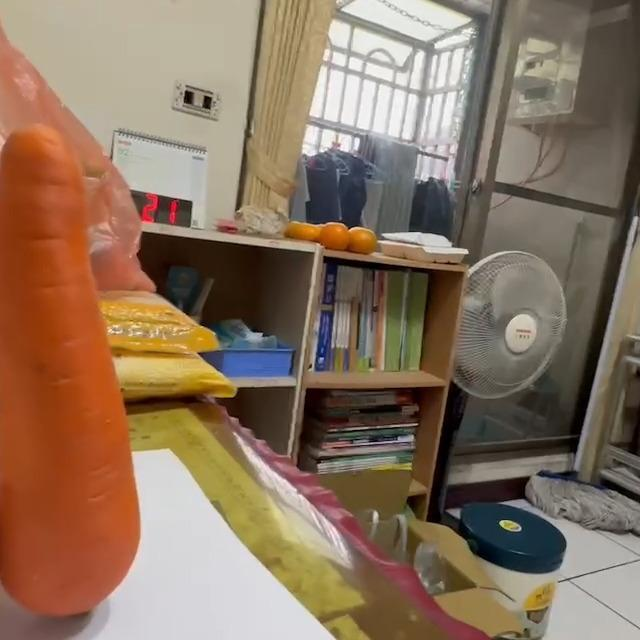carrot: (1, 126, 147, 623)
